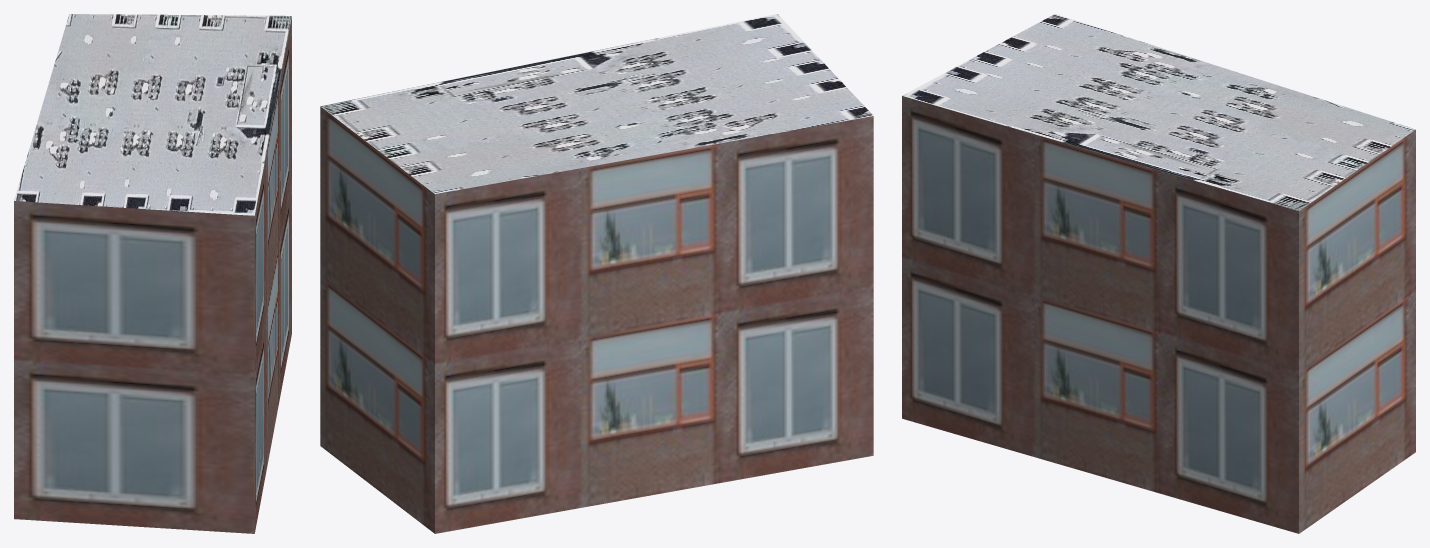
Rendered from ResTex__4456.fbx.
3 renders of one model, left to right at view 1: azimuth 30°, elevation 25°; view 2: azimuth 150°, elevation 25°; view 3: azimuth 270°, elevation 25°, orthographic. The views are drawn at different scales.
Visible parts, largest first — view 1: CityEngineMaterial_19_m, CityEngineMaterial_15_m; view 2: CityEngineMaterial_19_m, CityEngineMaterial_15_m; view 3: CityEngineMaterial_19_m, CityEngineMaterial_15_m.
Part boxes in pixels (x1,y1,x2,y2): CityEngineMaterial_19_m: (14, 17, 291, 533); CityEngineMaterial_15_m: (14, 14, 291, 215); CityEngineMaterial_19_m: (320, 106, 873, 533); CityEngineMaterial_15_m: (320, 14, 873, 194); CityEngineMaterial_19_m: (902, 96, 1415, 533); CityEngineMaterial_15_m: (902, 14, 1415, 210).
Bounding box in the file's own units: 7.86 × 6 × 8.66.
2 materials, 2 textured.
